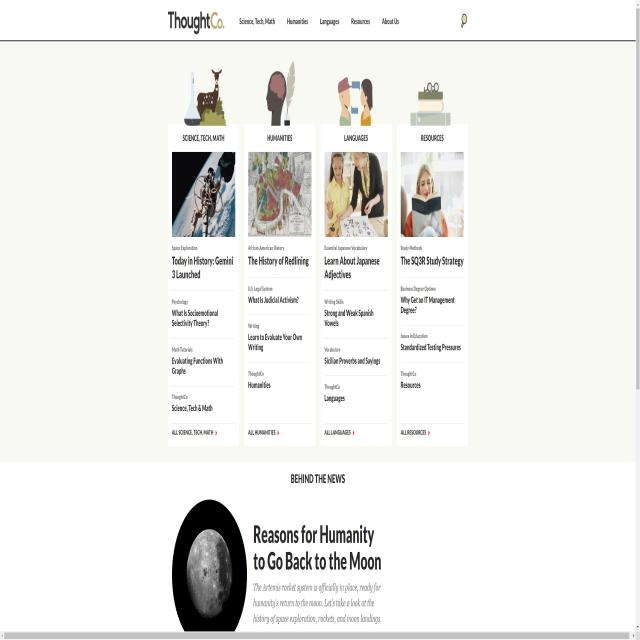menu-bar: (237, 9, 402, 35)
